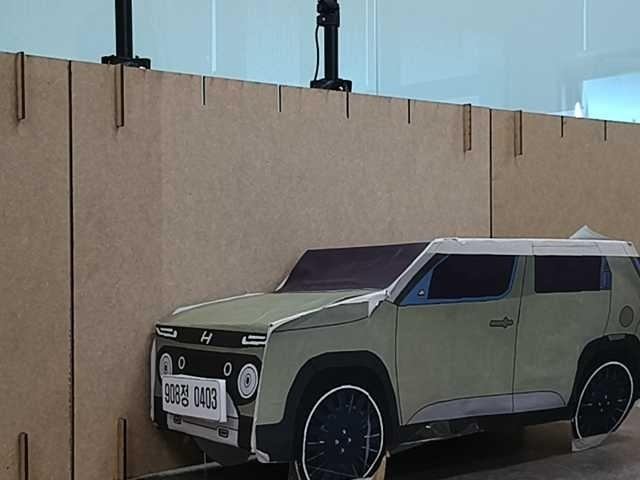car: (145, 230, 640, 480)
id: (160, 372, 226, 423)
